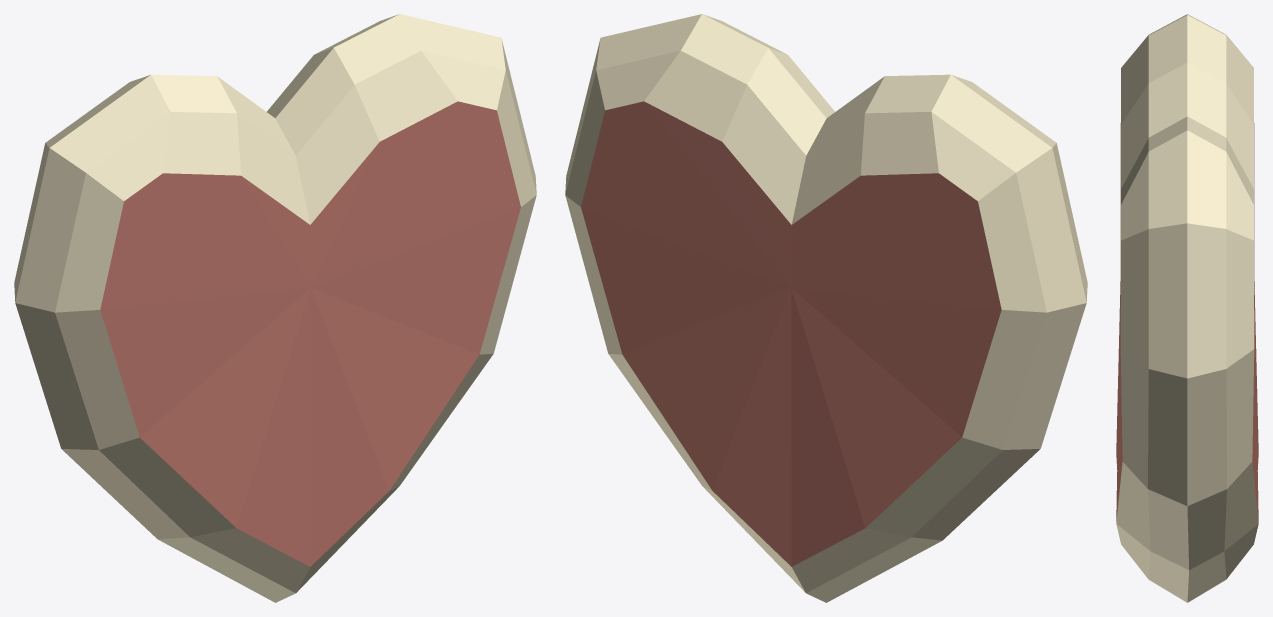
File: Hearth.fbx
The picture shows the model from 3 angles, left to right: view 1: azimuth 30°, elevation 25°; view 2: azimuth 150°, elevation 25°; view 3: azimuth 270°, elevation 25°; orthographic projection. The views are drawn at different scales.
Visible parts, largest first — view 1: Plane; view 2: Plane; view 3: Plane.
Boxes of the visible parts, bbox=[...] form: Plane: bbox=[14, 14, 536, 602]; Plane: bbox=[565, 14, 1087, 602]; Plane: bbox=[1116, 14, 1258, 602].
Bounding box in the file's own units: 2435 × 2497 × 608.
Materials: 1 (1 with a texture image).
